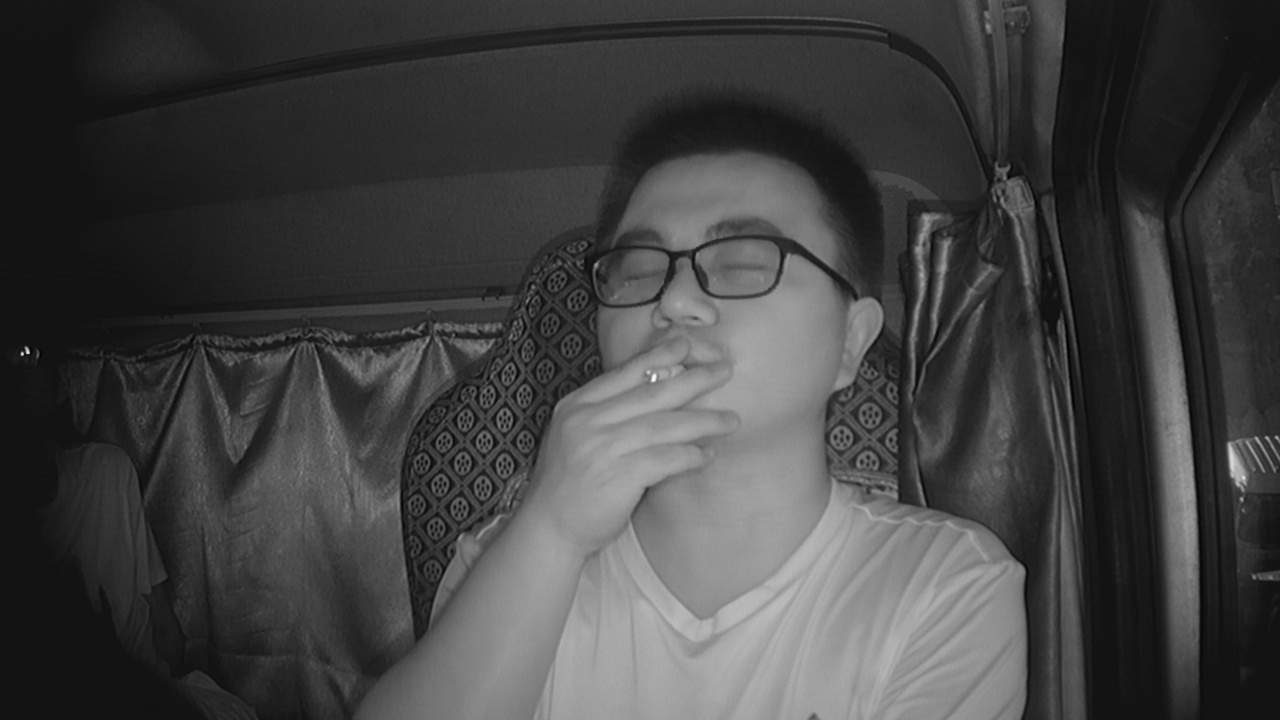hand: (595, 335, 736, 490)
